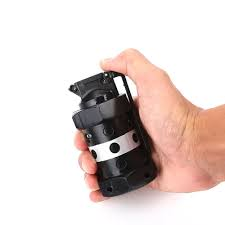e1: (68, 69, 157, 199)
